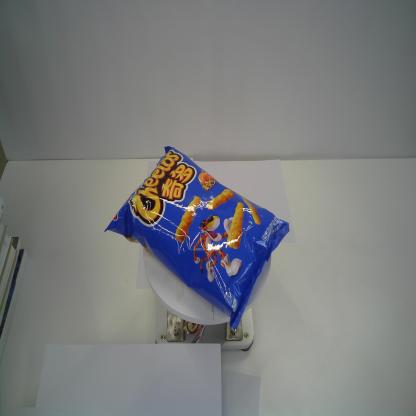Puffed Food: (102, 145, 290, 333)
